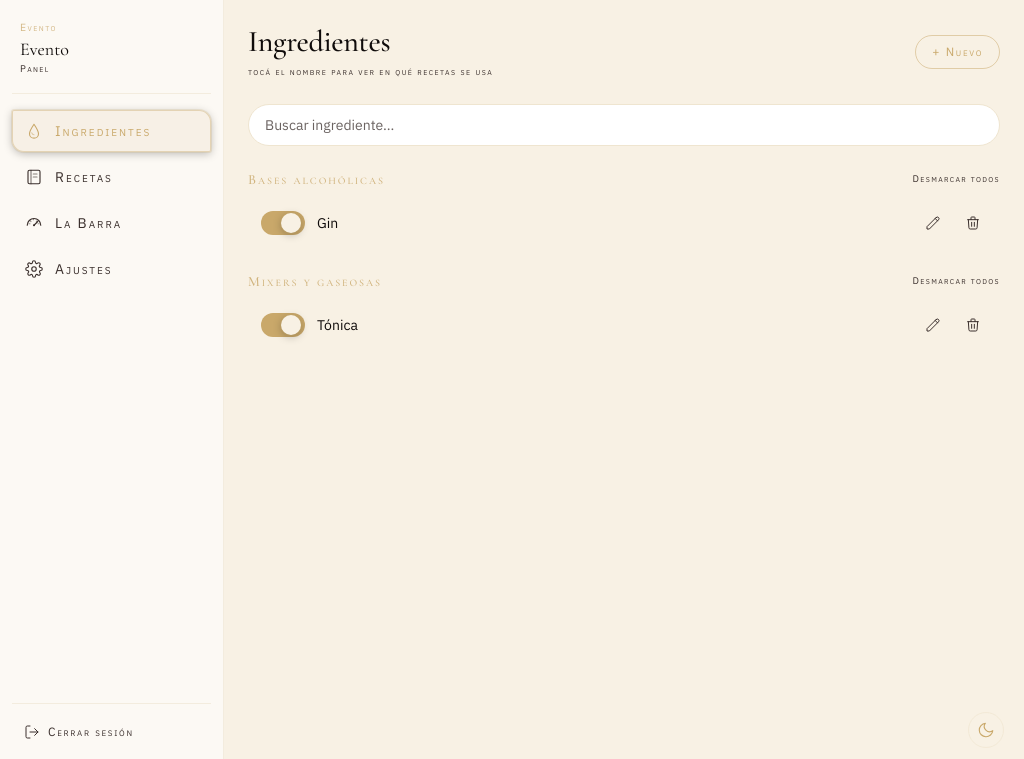
Test case: AdminPanel › Authenticated panel › switches to Dashboard tab (La Barra)
Click the button with test id "tab-dashboard". click: click(112, 222)
box: 12,202 -> 211,244
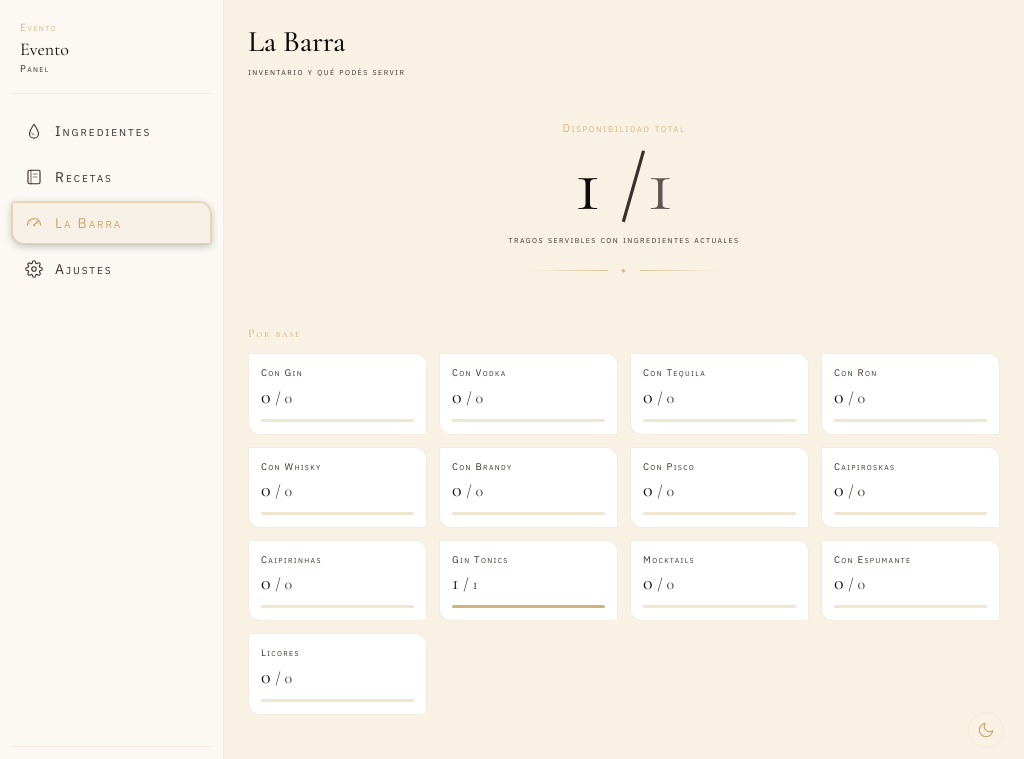
Result: the text "Disponibilidad total" is shown at 562,121 -> 686,135
